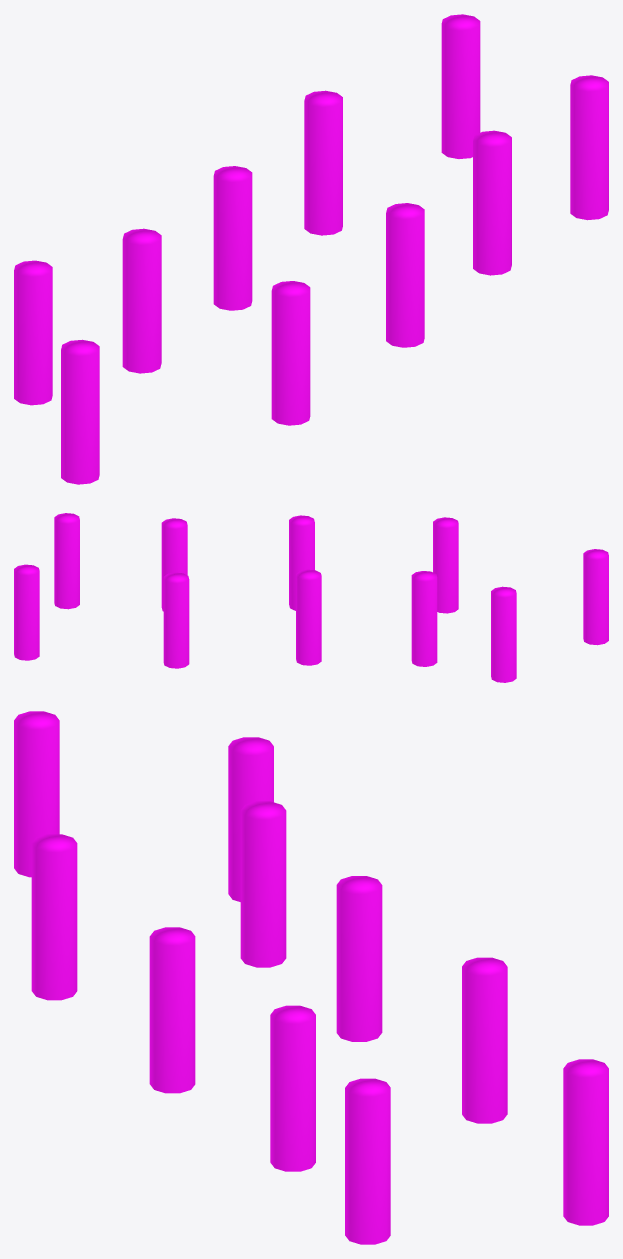
The model's file is colonnade-collision.glb.
3 renders of one model, top to bottom at view 1: azimuth 30°, elevation 25°; view 2: azimuth 150°, elevation 25°; view 3: azimuth 270°, elevation 25°, orthographic. The views are drawn at different scales.
Parts seen in each view (by area): view 1: colonnade-collision; view 2: colonnade-collision; view 3: colonnade-collision.
Part boxes in pixels (x1,y1,x2,y2): colonnade-collision: (14,14,608,484); colonnade-collision: (14,513,608,682); colonnade-collision: (14,711,608,1244).
Size of the model in its own units: 16.78 by 3 by 10.95.
